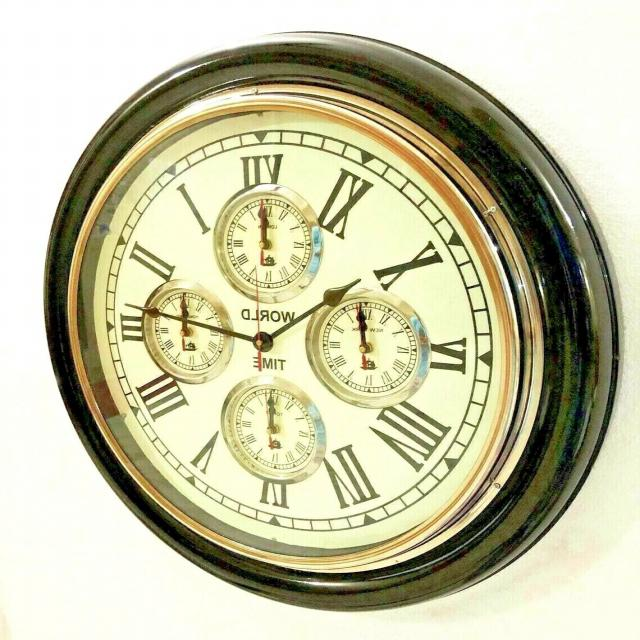clock: (0, 27, 598, 640)
